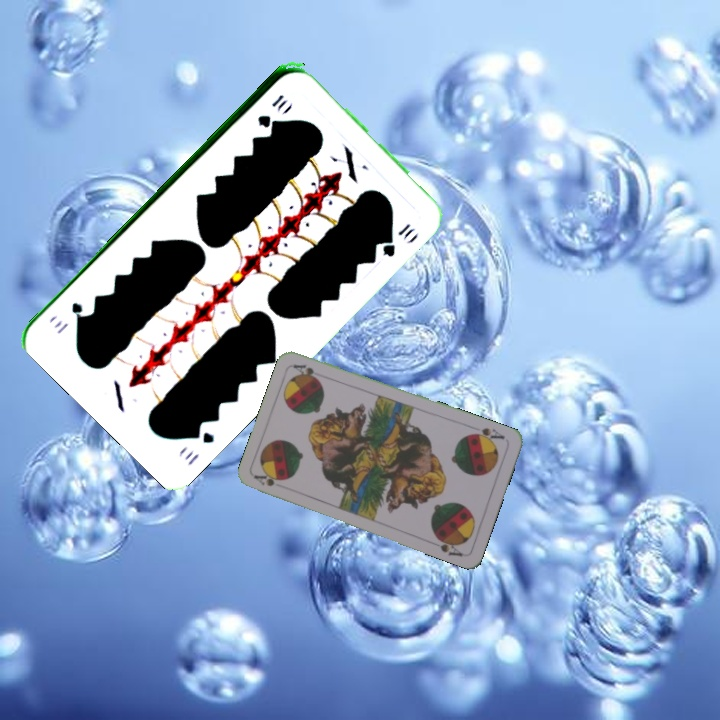G10: (181, 422, 217, 468), (253, 90, 289, 129)
SA: (467, 424, 507, 446), (251, 471, 284, 489)
